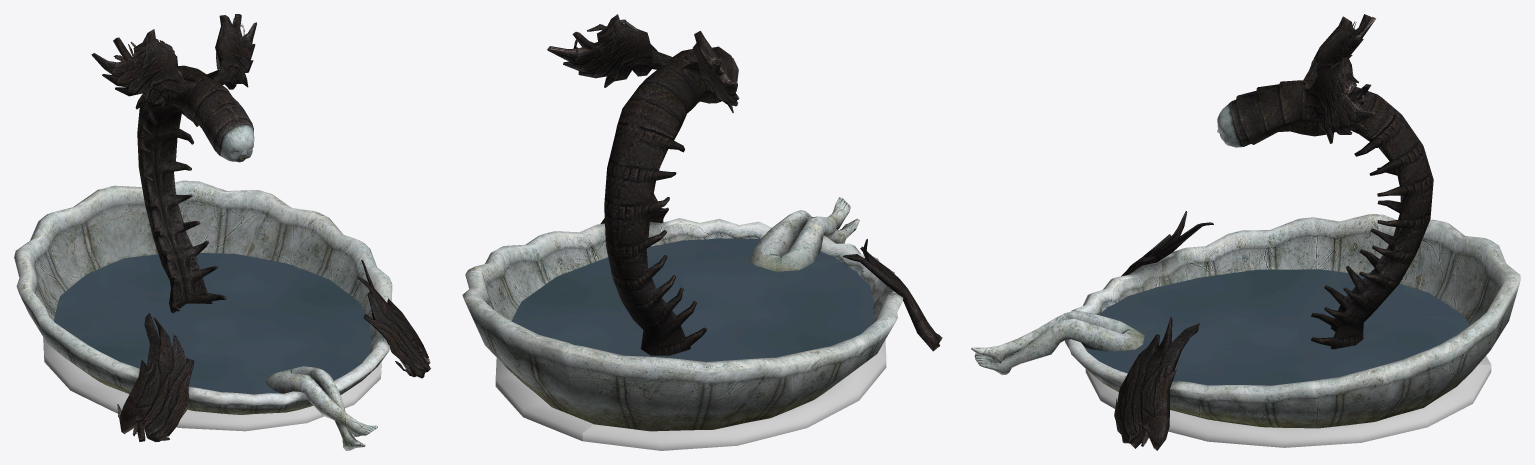
Rendered from fountain_childsnake.dae.
3 views of the same model, side by side, from view 1: azimuth 30°, elevation 25°; view 2: azimuth 150°, elevation 25°; view 3: azimuth 270°, elevation 25° (orthographic). The views are drawn at different scales.
Visible parts, largest first — view 1: fountain02, pPlane1, pCube1; view 2: fountain02, pPlane1, pCube1; view 3: fountain02, pPlane1, pCube1.
Boxes of the visible parts, left/top/right/bottom form: fountain02: left=14, top=14, right=430, bottom=450; pPlane1: left=54, top=253, right=371, bottom=394; pCube1: left=43, top=337, right=381, bottom=431; fountain02: left=462, top=14, right=942, bottom=431; pPlane1: left=511, top=238, right=874, bottom=361; pCube1: left=495, top=340, right=886, bottom=450; fountain02: left=971, top=14, right=1520, bottom=450; pPlane1: left=1085, top=269, right=1469, bottom=385; pCube1: left=1085, top=356, right=1491, bottom=447.
Size of the model in its own units: 4.48 by 4.15 by 6.1.
